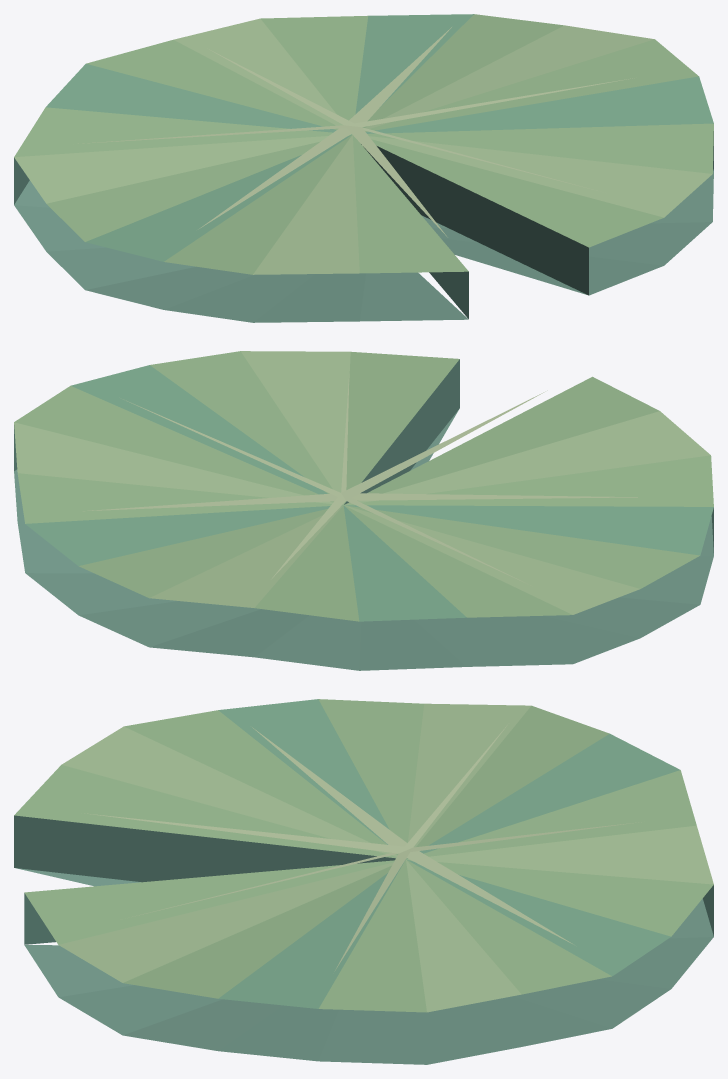
Rendered from lily_pad_small.glb.
The picture shows the model from 3 angles, top to bottom: view 1: azimuth 30°, elevation 25°; view 2: azimuth 150°, elevation 25°; view 3: azimuth 270°, elevation 25°; orthographic projection. The views are drawn at different scales.
Visible parts, largest first — view 1: Small_lily_pad_leaf, Small_lily_pad_edge, Small_lily_pad_veins; view 2: Small_lily_pad_leaf, Small_lily_pad_edge, Small_lily_pad_veins; view 3: Small_lily_pad_leaf, Small_lily_pad_edge, Small_lily_pad_veins.
Boxes of the visible parts, left/top/right/bottom form: Small_lily_pad_leaf: left=14, top=14, right=713, bottom=274; Small_lily_pad_edge: left=14, top=131, right=713, bottom=322; Small_lily_pad_veins: left=78, top=27, right=634, bottom=237; Small_lily_pad_leaf: left=14, top=351, right=713, bottom=621; Small_lily_pad_edge: left=14, top=359, right=713, bottom=670; Small_lily_pad_veins: left=83, top=374, right=637, bottom=585; Small_lily_pad_leaf: left=14, top=699, right=713, bottom=1012; Small_lily_pad_edge: left=14, top=815, right=713, bottom=1064; Small_lily_pad_veins: left=84, top=725, right=641, bottom=971.
Size of the model in its own units: 1.28 by 0.1995 by 1.15.
